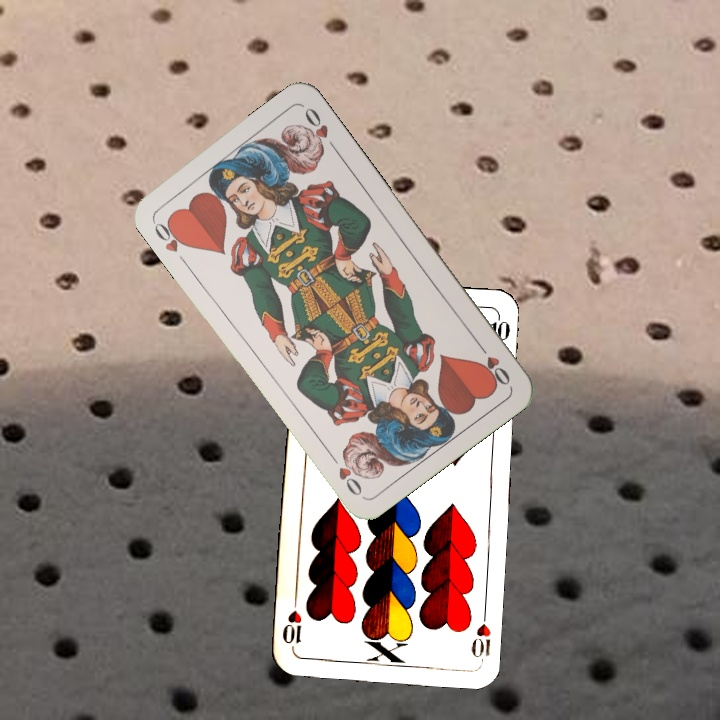H10: (467, 604, 493, 663)
HO: (472, 337, 513, 388), (148, 214, 192, 255)
